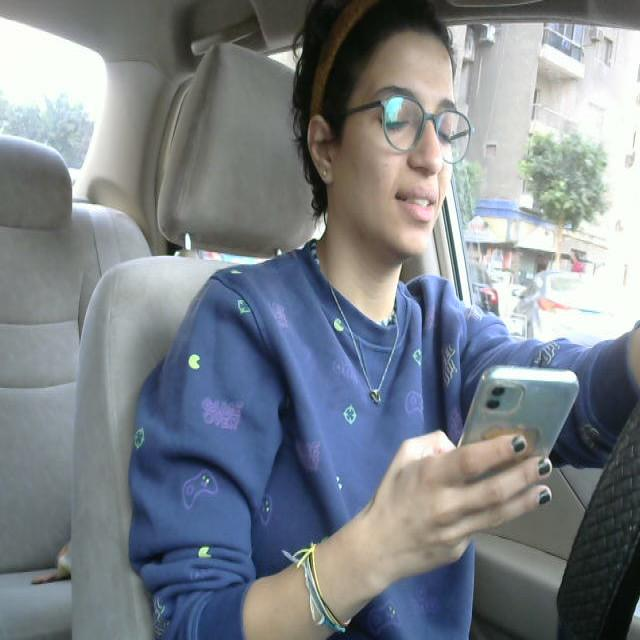mobile use: (454, 360, 581, 483)
